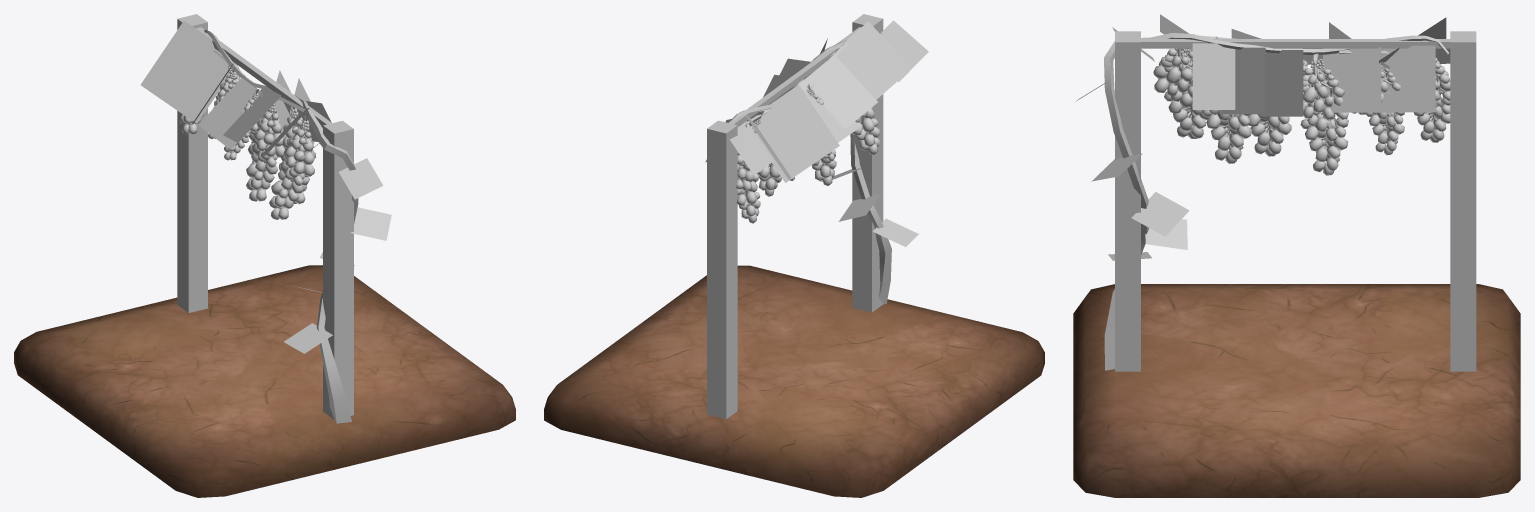
The model's file is Uzum.fbx.
3 views of the same model, side by side, from view 1: azimuth 30°, elevation 25°; view 2: azimuth 150°, elevation 25°; view 3: azimuth 270°, elevation 25° (orthographic). The views are drawn at different scales.
Visible parts, largest first — view 1: Soil_uzum, uzum; view 2: Soil_uzum, uzum, uzum_3.001; view 3: Soil_uzum, uzum, uzum_3.001.
Boxes of the visible parts, x1,y1,x2,y2 form: Soil_uzum: [14, 14, 515, 497]; uzum: [208, 64, 315, 219]; Soil_uzum: [544, 14, 1044, 497]; uzum: [737, 51, 879, 196]; uzum_3.001: [736, 122, 762, 223]; Soil_uzum: [1073, 14, 1520, 497]; uzum: [1153, 36, 1441, 175]; uzum_3.001: [1413, 65, 1450, 142].
Size of the model in its own units: 162 by 152 by 162.
